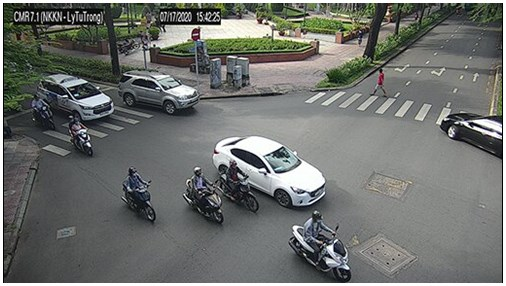di_bo: (373, 69, 387, 97), (357, 30, 364, 46)
xe_hoi: (213, 135, 326, 207), (118, 69, 201, 113), (36, 74, 115, 120), (440, 112, 503, 159)
xe_may: (289, 209, 352, 282), (183, 167, 224, 224), (221, 160, 259, 213), (122, 167, 156, 222), (66, 115, 94, 157), (30, 94, 55, 131), (117, 35, 140, 53)
